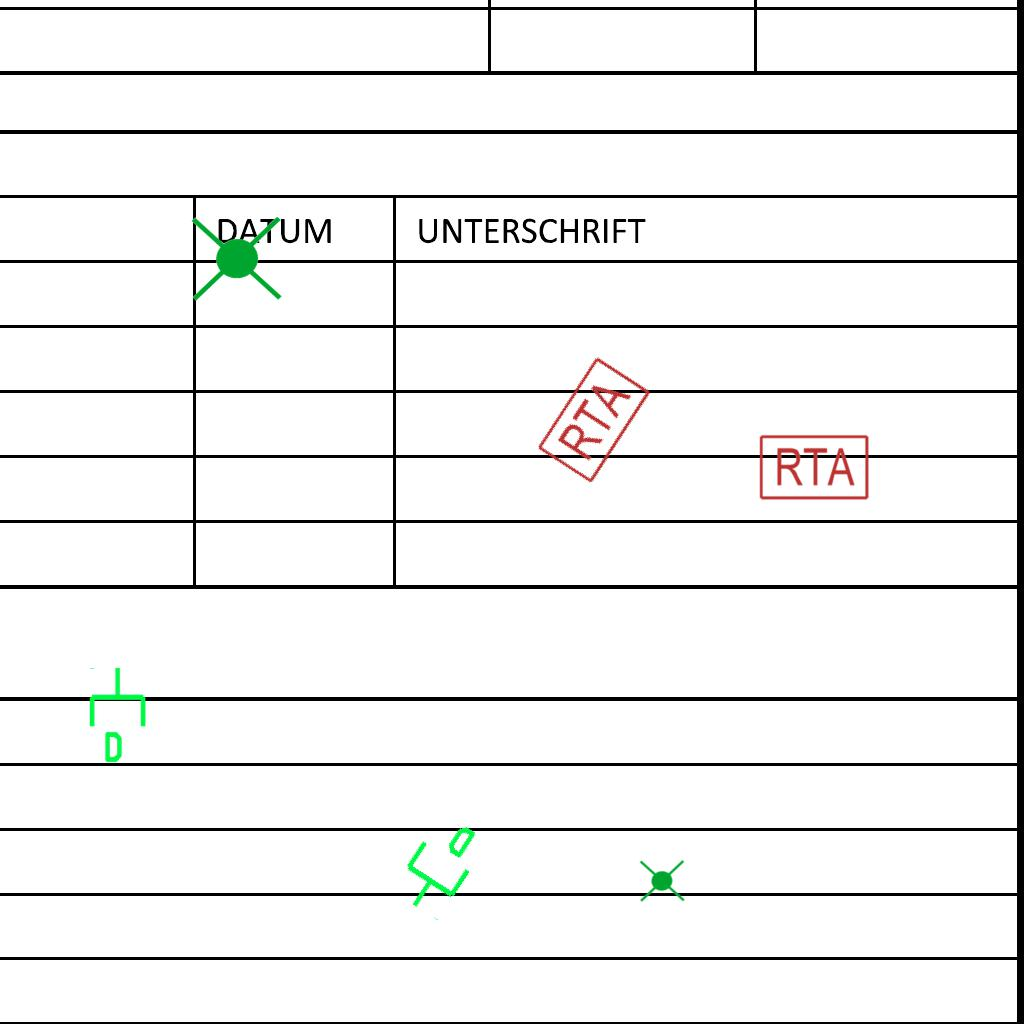Datenanschluss_einfach: (382, 804, 495, 926), (85, 665, 154, 765)
Notlichtbaustein_in_Allgemeinbeleuchtug_engebaut_Einbau_(1UG_und_2UG_Aufbauvaria: (187, 206, 287, 309), (637, 856, 687, 907)
Ruf-und_Abstelltaster: (533, 354, 654, 488), (756, 433, 870, 502)
